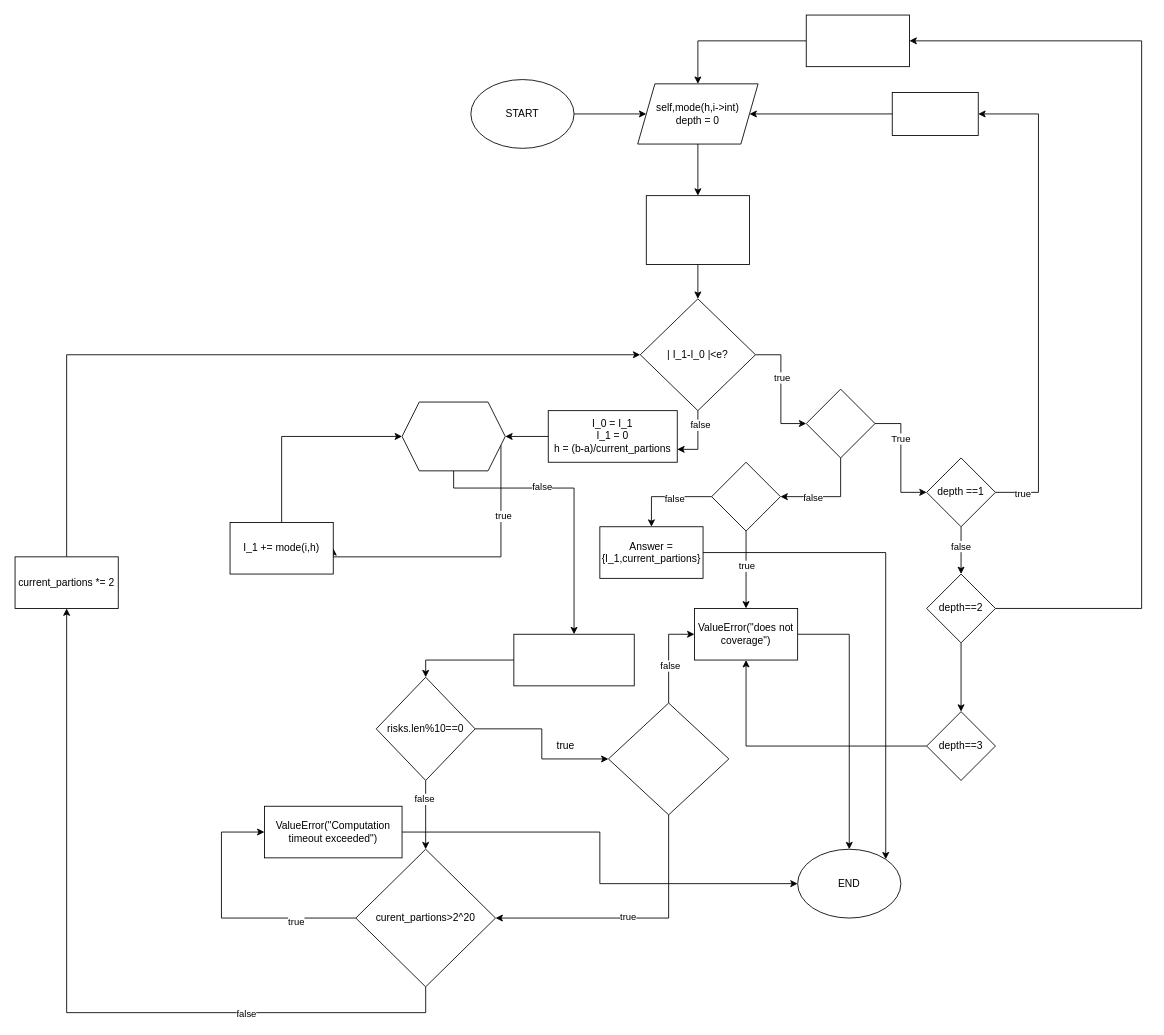
Image size: 1164x1035. Some labels were removed from this diagram. The shapes that lost their labels are listed below. From the top down, each one's centre as x and y in pixels, then its label:
the point at 857,40: b-=eps depth+=1
the point at 934,113: a+=eps depth+=1
the point at 697,229: I_0 = 10^10 I_1 = 0 current_partions = 4 risks = []
the point at 453,436: i = 0 i<current_partions
the point at 840,423: I_1 = NaN?
the point at 745,496: I_1=INF?
the point at 573,659: risks.append(abs(I_1-I_0))
the point at 668,758: check_coverage(risks)
